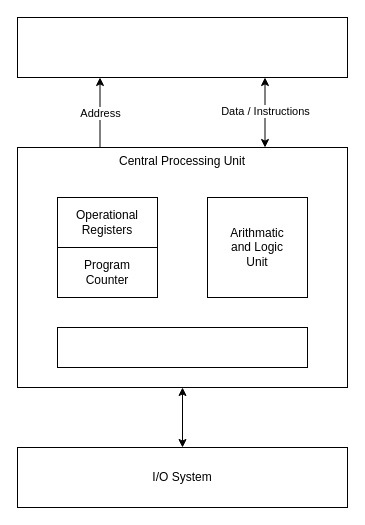
The diagram is 365 pixels wide and 525 high, and some of its shapes have lost their labels. The shapes that lost their labels are listed below. From the top down, each one's centre as x and y in pixels, then its label:
(182,47): Main Memory
(182,347): Control Unit
